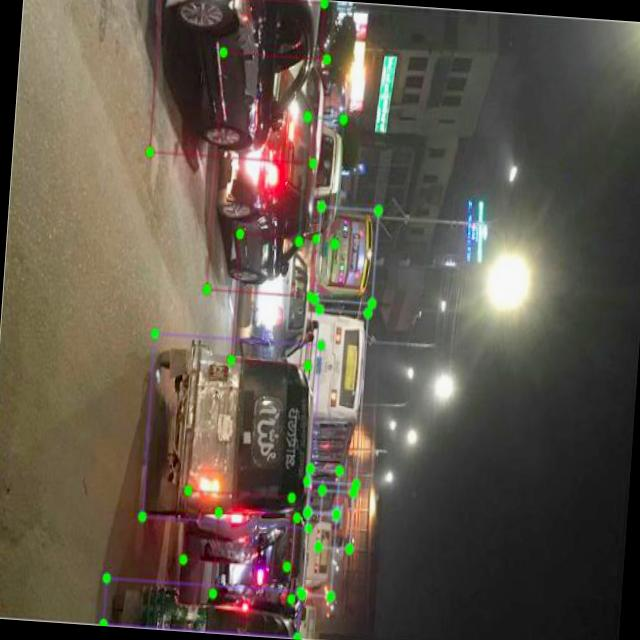bus: (308, 314, 368, 486), (316, 210, 378, 308), (302, 514, 336, 598), (318, 494, 353, 552), (308, 473, 340, 517)
car: (207, 55, 326, 300), (150, 0, 324, 165), (232, 237, 316, 368), (184, 494, 292, 571), (212, 514, 296, 602), (299, 120, 343, 248)
motorcycle: (142, 336, 320, 532), (103, 582, 301, 639)
